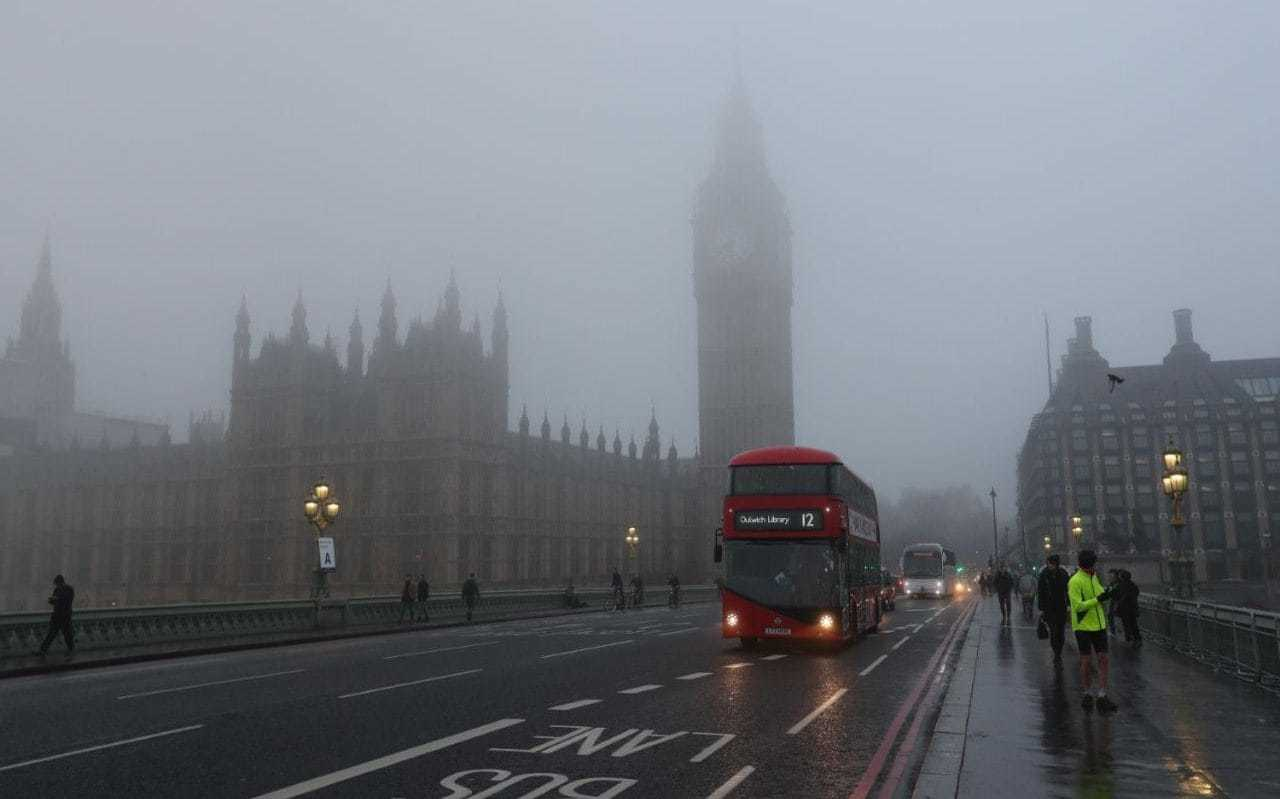bicycle: (605, 588, 628, 612), (626, 588, 645, 611), (662, 592, 687, 608)
bus: (713, 446, 887, 653), (899, 543, 950, 602)
person: (1067, 550, 1114, 713), (39, 573, 79, 654), (1040, 555, 1065, 670), (1117, 570, 1144, 649), (994, 566, 1013, 626), (1019, 566, 1037, 626), (461, 571, 478, 622), (399, 574, 412, 626), (416, 575, 430, 622), (610, 567, 624, 611), (667, 573, 679, 603), (630, 572, 641, 604)
